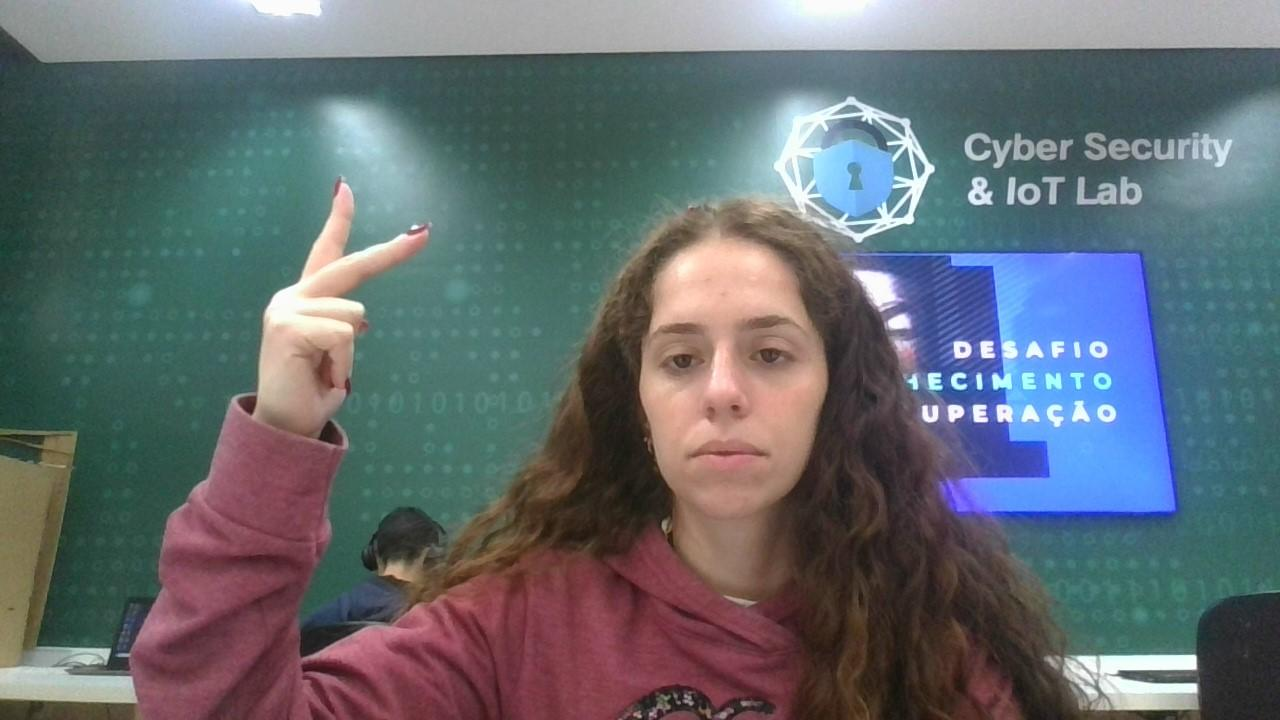K: (248, 160, 435, 452)
